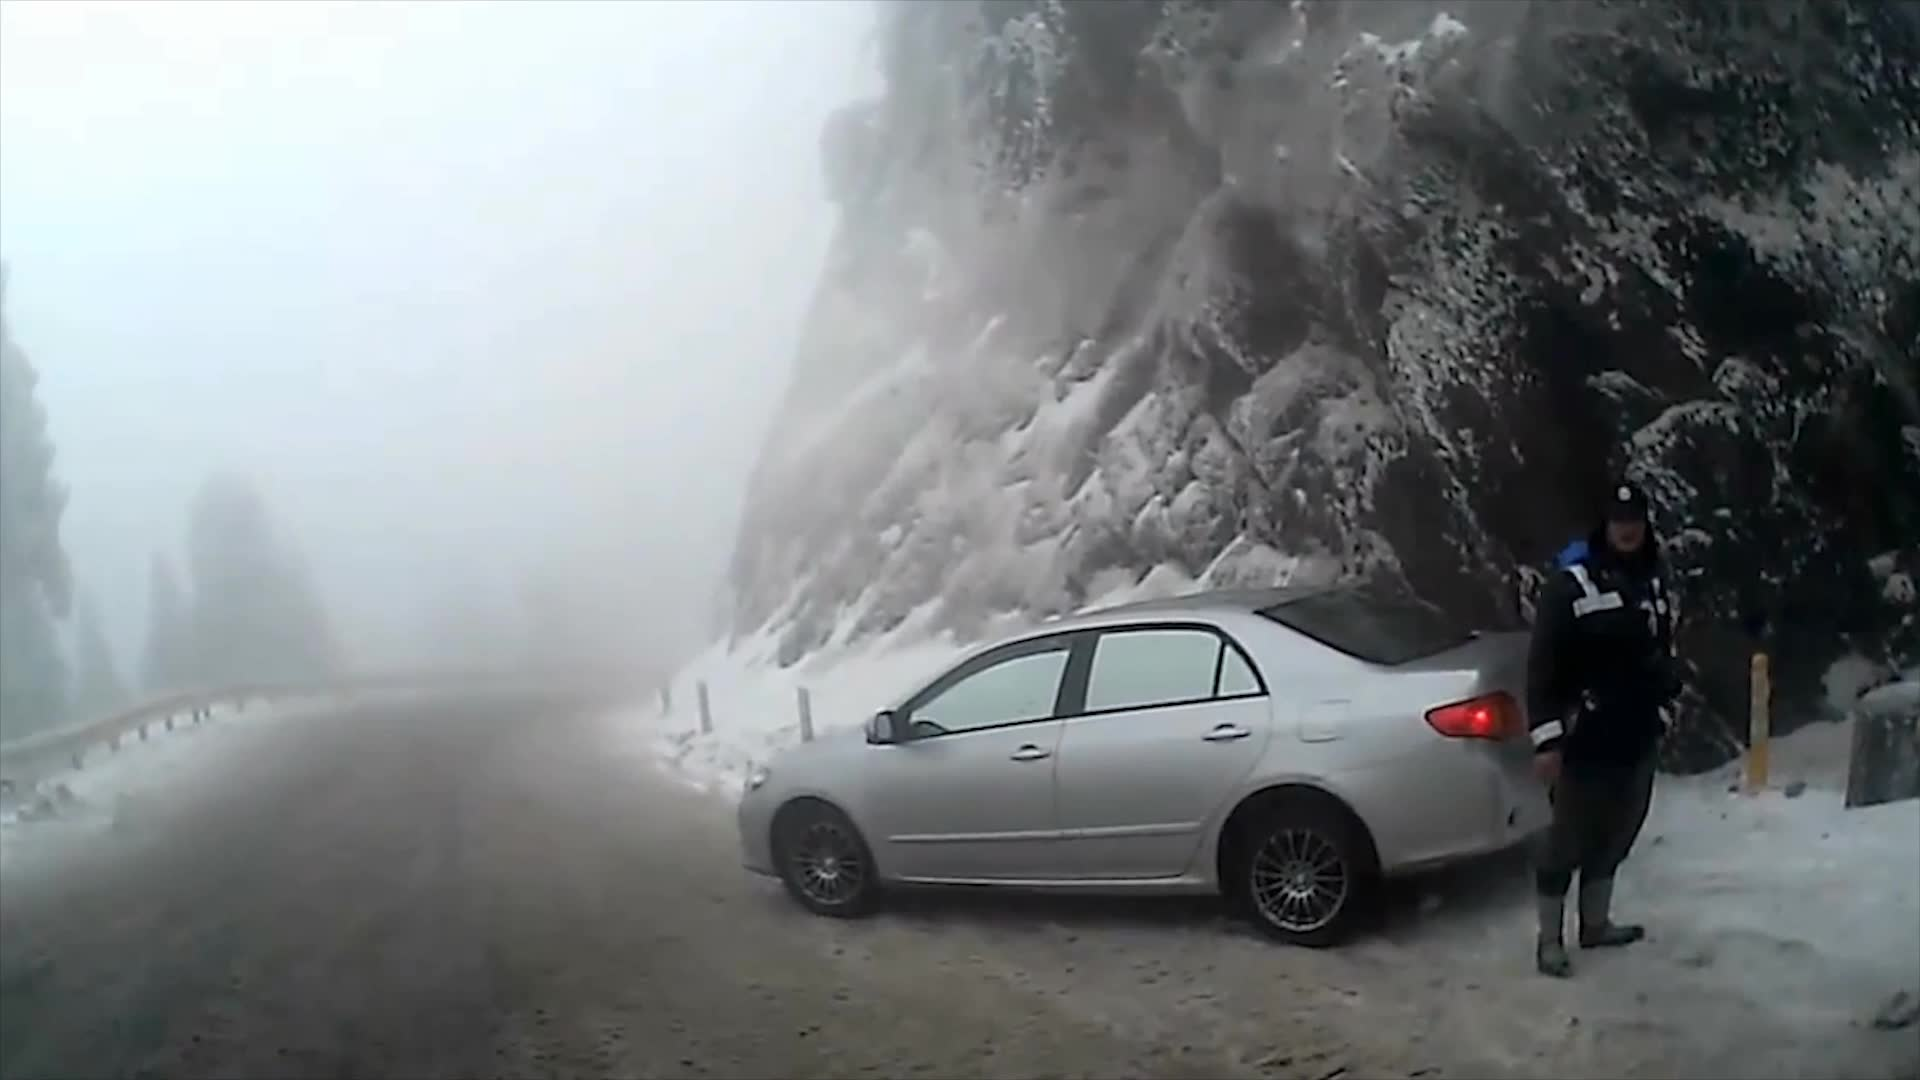pedestrian: (1531, 481, 1691, 976)
vehicle: (738, 579, 1625, 942)
